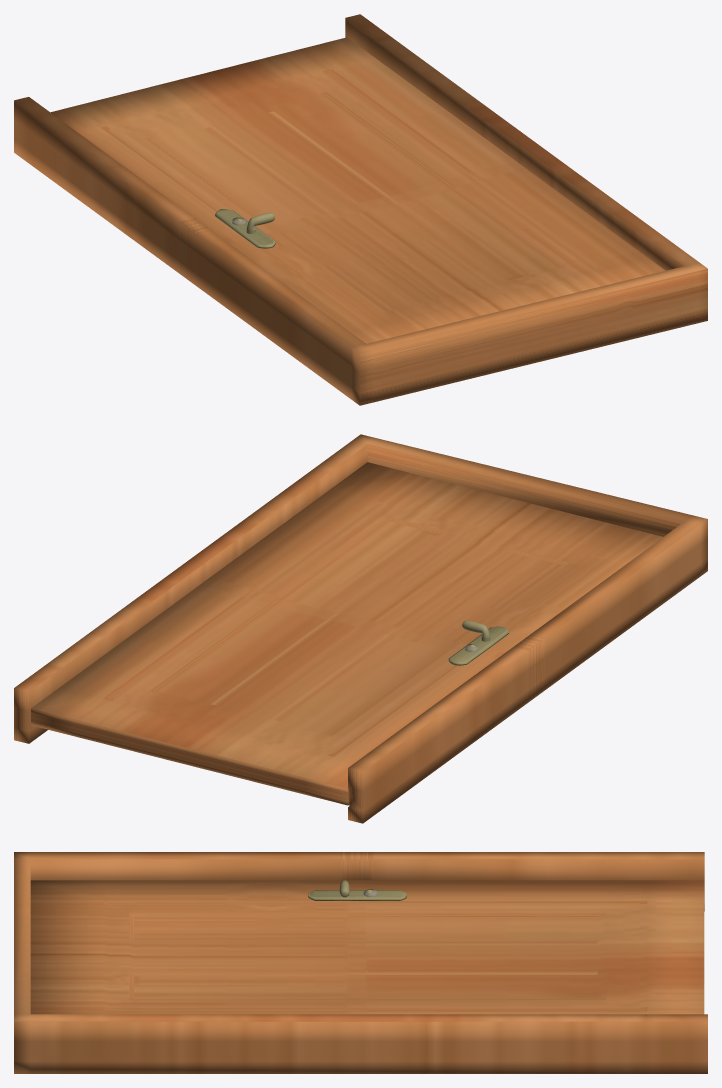
The model's file is DoorTest.fbx.
The picture shows the model from 3 angles, top to bottom: view 1: azimuth 30°, elevation 25°; view 2: azimuth 150°, elevation 25°; view 3: azimuth 270°, elevation 25°; orthographic projection.
Parts seen in each view (by area): view 1: DoorBoddy_001, OutBoddy, Locker_001; view 2: DoorBoddy_001, OutBoddy, Locker_001; view 3: DoorBoddy_001, OutBoddy, Locker_001.
Boxes of the visible parts, x1=… form: DoorBoddy_001: x1=50, y1=37, x2=665, y2=343; OutBoddy: x1=14, y1=14, x2=707, y2=405; Locker_001: x1=215, y1=209, x2=275, y2=248; DoorBoddy_001: x1=31, y1=462, x2=662, y2=805; OutBoddy: x1=14, y1=434, x2=707, y2=823; Locker_001: x1=448, y1=620, x2=508, y2=665; DoorBoddy_001: x1=30, y1=880, x2=704, y2=1014; OutBoddy: x1=14, y1=852, x2=707, y2=1073; Locker_001: x1=308, y1=880, x2=406, y2=900.
Size of the model in its own units: 7.18 by 1.13 by 12.42.
7 materials, 7 textured.
